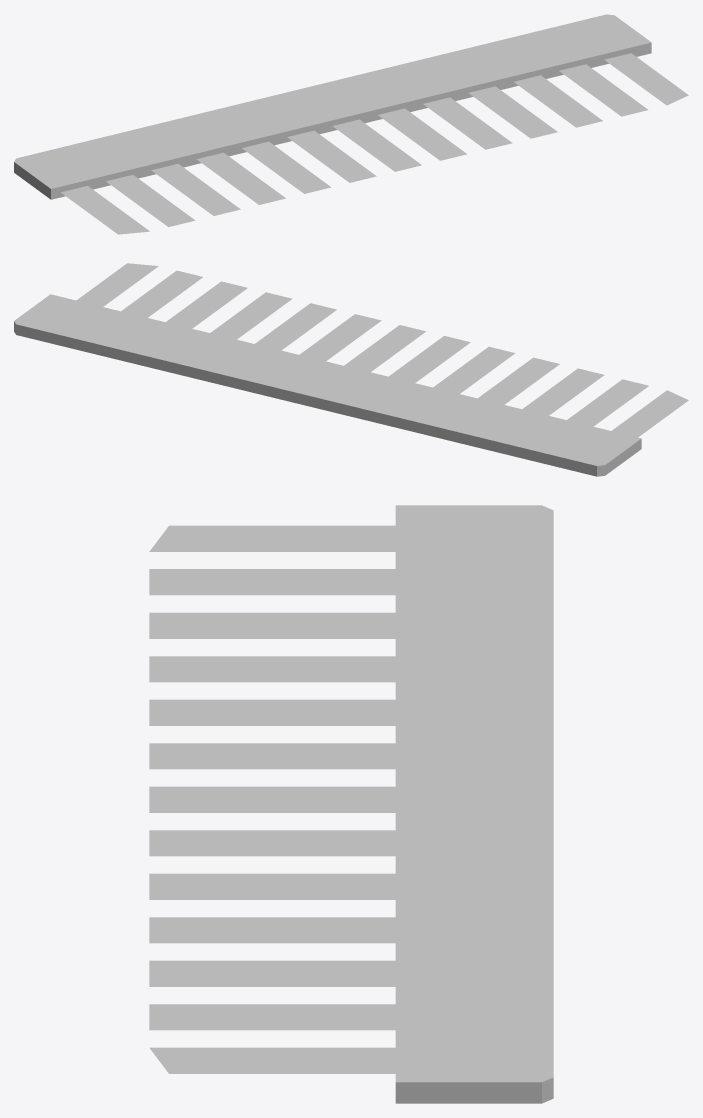
File: Comb_E.FBX
The picture shows the model from 3 angles, top to bottom: view 1: azimuth 30°, elevation 25°; view 2: azimuth 150°, elevation 25°; view 3: azimuth 270°, elevation 25°; orthographic projection. The views are drawn at different scales.
Visible parts, largest first — view 1: Comb; view 2: Comb; view 3: Comb.
Part boxes in pixels (left/top/right/bottom): Comb: left=14, top=14, right=688, bottom=234; Comb: left=14, top=263, right=688, bottom=476; Comb: left=149, top=505, right=553, bottom=1103.
Size of the model in its own units: 116 by 2 by 34.39.
